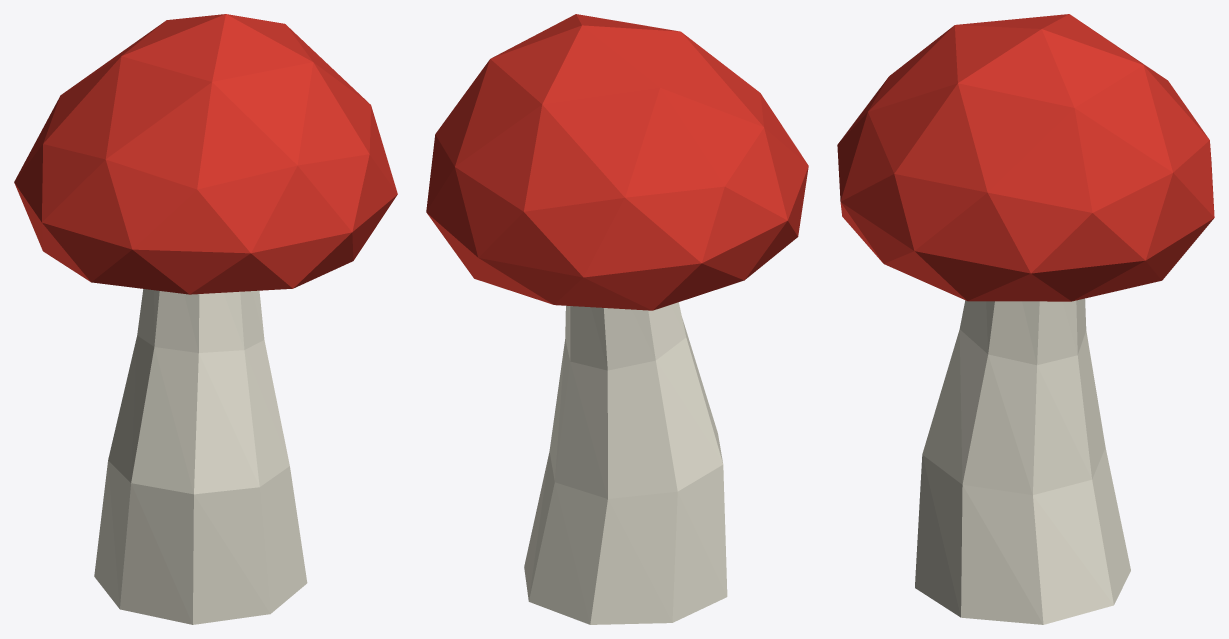
File: mushroom_04.glb
3 views of the same model, side by side, from view 1: azimuth 30°, elevation 25°; view 2: azimuth 150°, elevation 25°; view 3: azimuth 270°, elevation 25° (orthographic). The views are drawn at different scales.
Parts seen in each view (by area): view 1: Object_126, Object_127; view 2: Object_126, Object_127; view 3: Object_126, Object_127.
Part boxes in pixels (<box>): Object_126: <box>14,14,397,294</box>; Object_127: <box>94,289,307,624</box>; Object_126: <box>426,14,808,310</box>; Object_127: <box>524,302,727,624</box>; Object_126: <box>837,14,1214,301</box>; Object_127: <box>915,298,1130,624</box>.
Bounding box in the file's own units: 0.4181 × 0.6605 × 0.3979.
